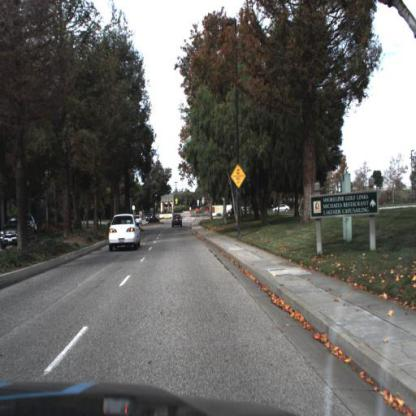car: (1, 215, 39, 251), (109, 211, 142, 248), (171, 212, 185, 228)
